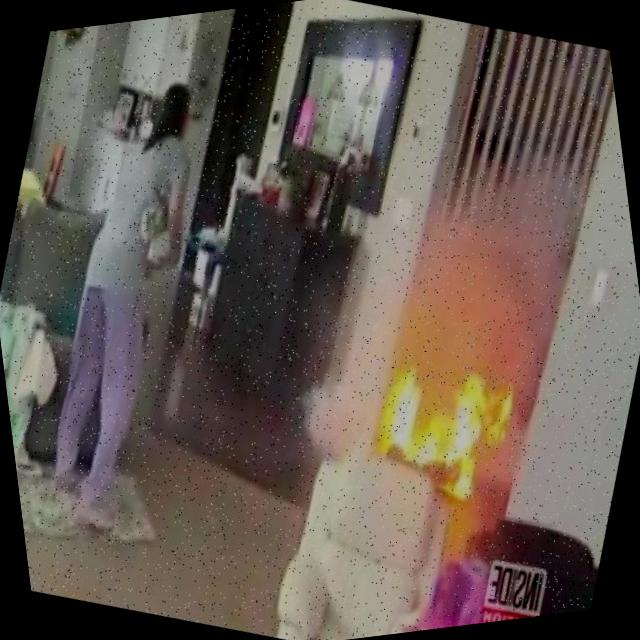fire: (344, 332, 525, 520)
smoke: (355, 165, 592, 382)
